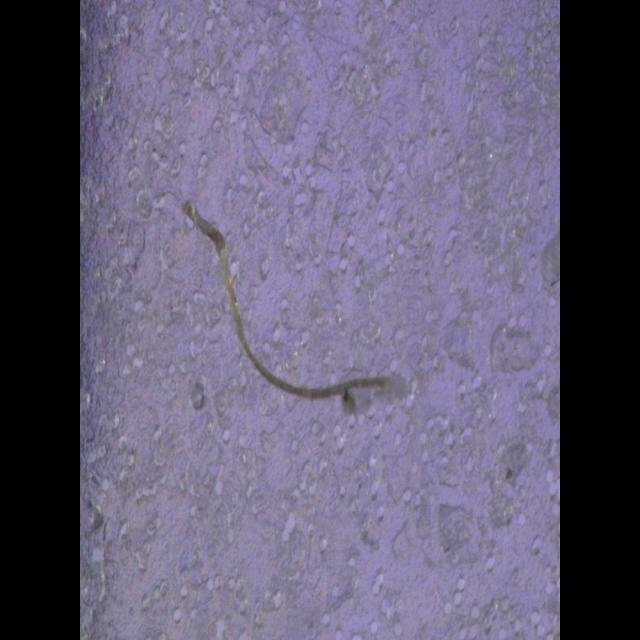Fibre: (182, 196, 408, 412)
